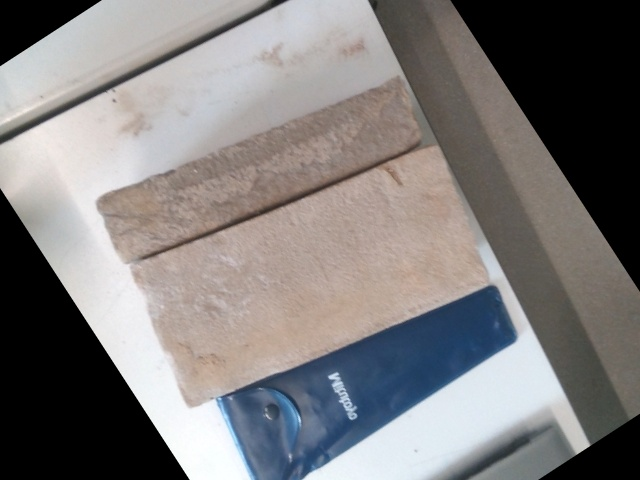brick: (135, 148, 485, 404)
